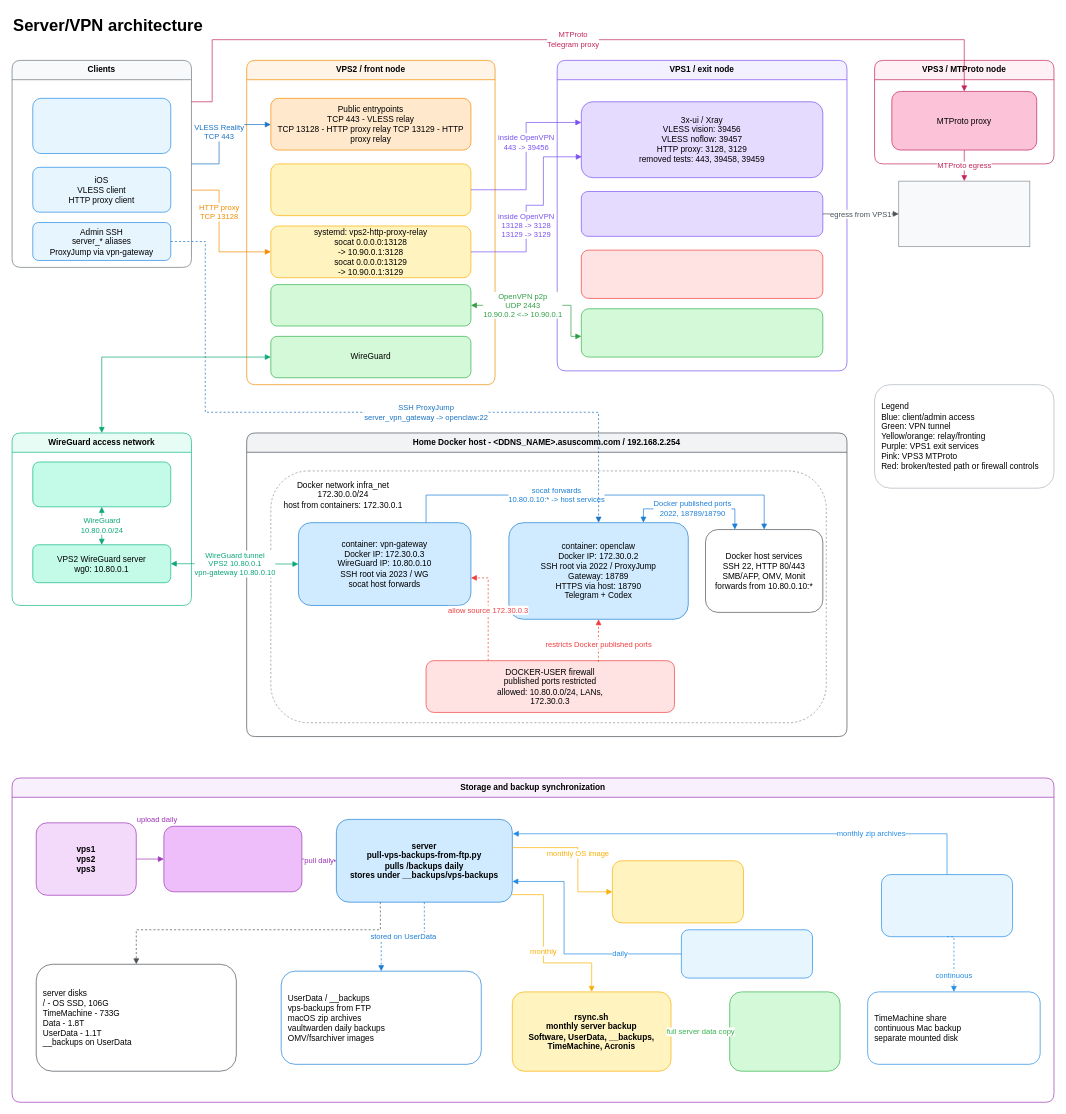
This 1066x1114 diagram has some shape labels left out. Here are the shapes that lost their labels. From the top down, the centre of each, then its label:
pixel 101 126: macOS Xray local SOCKS 127.0.0.1:1080 VLESS Reality client
pixel 370 189: systemd: vps2-vless-relay socat 0.0.0.0:443 -> 10.90.0.1:39456
pixel 702 213: Exit to Internet default source: ip1 extra IPv4: ip2
pixel 964 213: Internet services Google / YouTube / Instagram / sites
pixel 702 273: MTProto proxy on extra IP fallback: VPS3
pixel 370 305: OpenVPN client tun-vps12: 10.90.0.2 remote VPS1 UDP 2443
pixel 702 332: OpenVPN server UDP 2443 allowed from VPS2 tun-vps12: 10.90.0.1
pixel 101 484: Mac / iPhone WG clients 10.80.0.2 / 10.80.0.3
pixel 232 859: FTP backup storage vps config backups pre-update archives
pixel 677 891: OpenMediaVault fsarchiver OS image monthly
pixel 947 905: macOS Time Machine continuous backup_macOS.sh monthly
pixel 746 953: vaultwarden daily backup
pixel 784 1031: WD Green / offline backup disks monthly copy of server data rsync target
